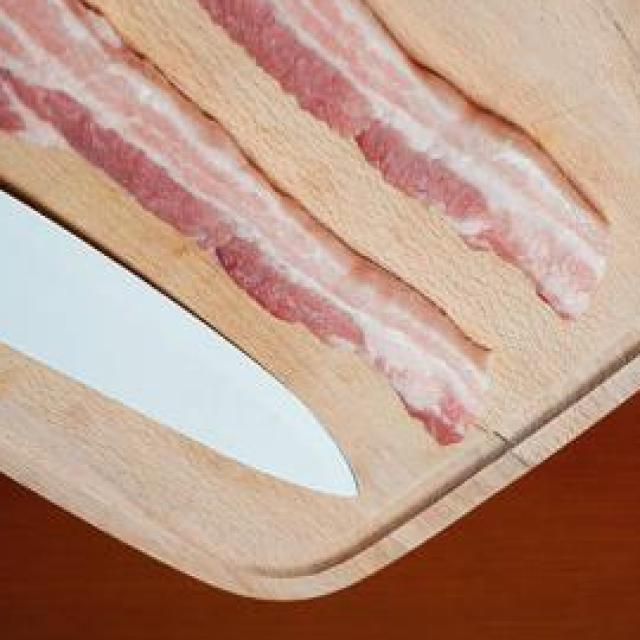knife: (0, 171, 360, 508)
